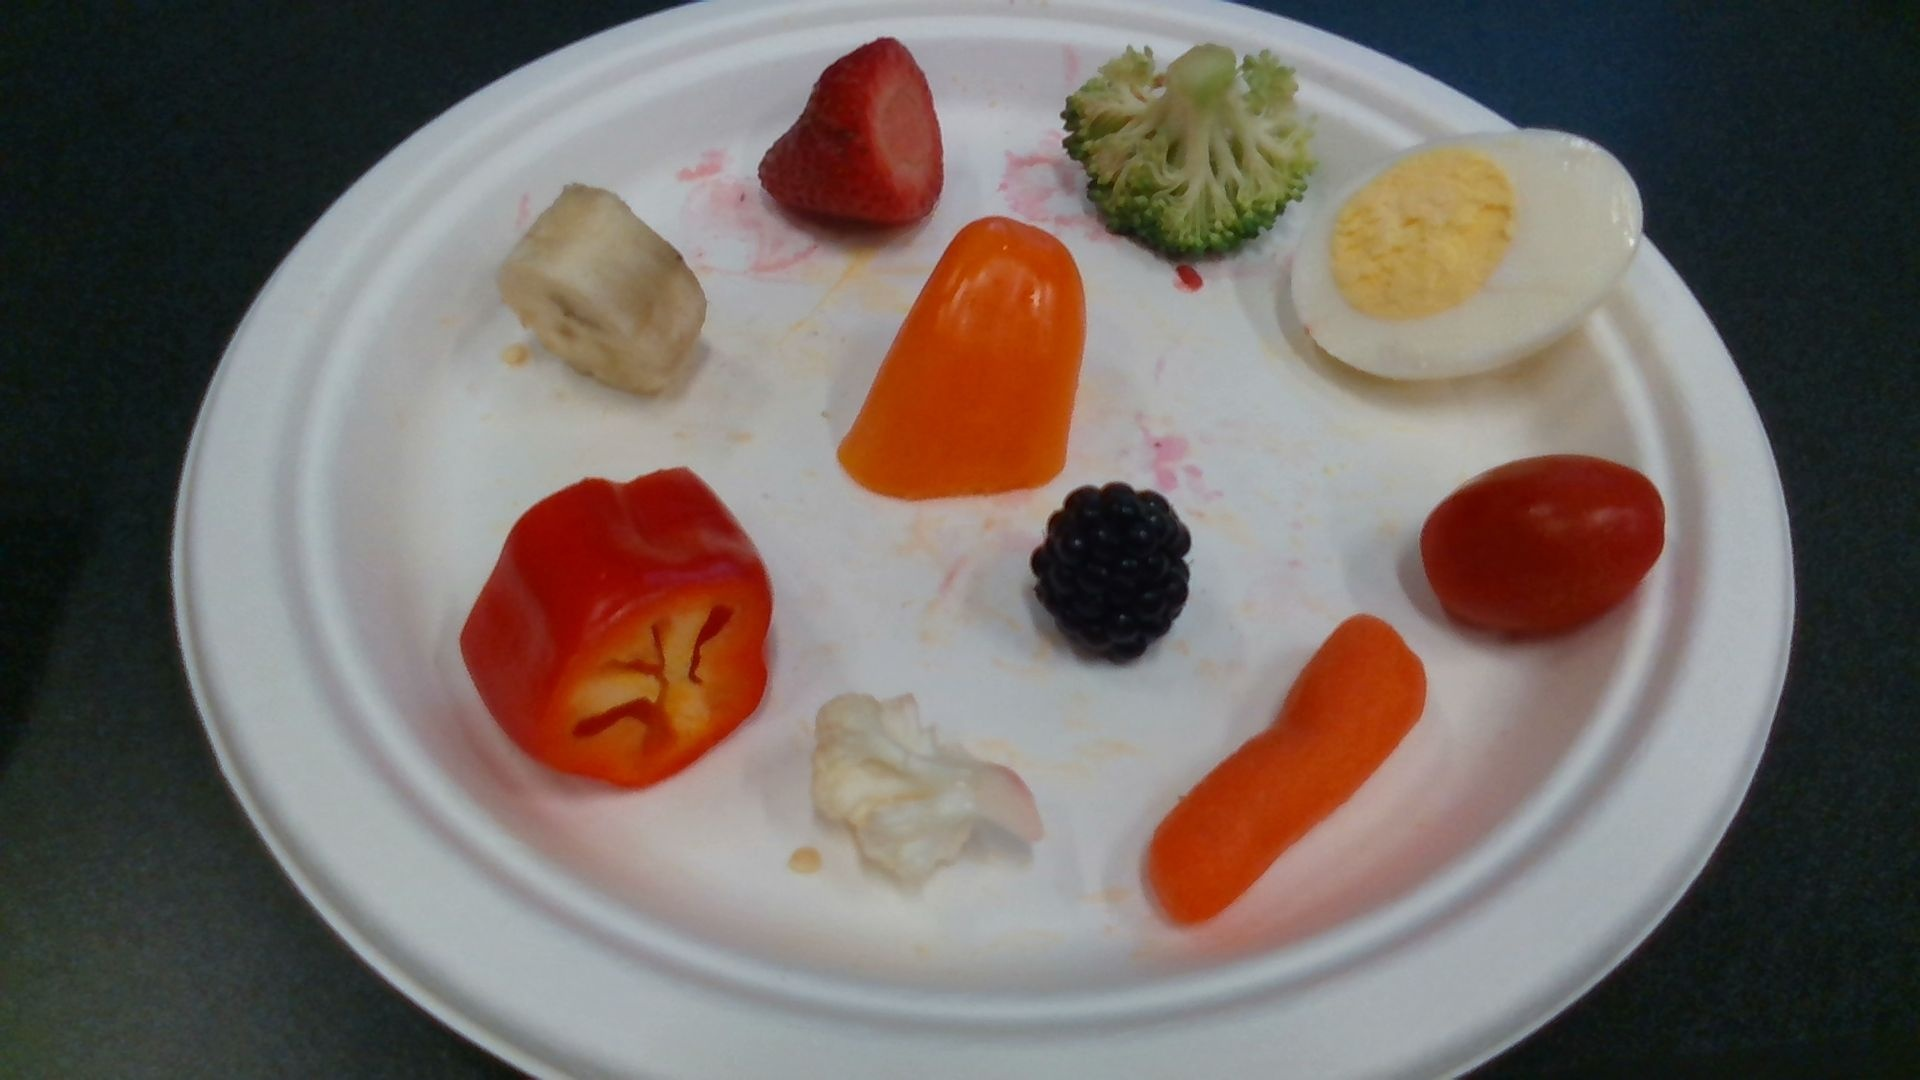banana: (497, 183, 705, 392)
bell_pepper: (460, 468, 770, 789), (840, 218, 1085, 498)
blackberry: (1030, 483, 1193, 661)
broccoli: (1065, 44, 1309, 251)
carrot: (1153, 616, 1425, 923)
cauliflower: (815, 691, 1042, 880)
cherry_tomato: (1420, 455, 1665, 626)
egg: (1295, 128, 1640, 376)
strawberry: (762, 36, 939, 220)
